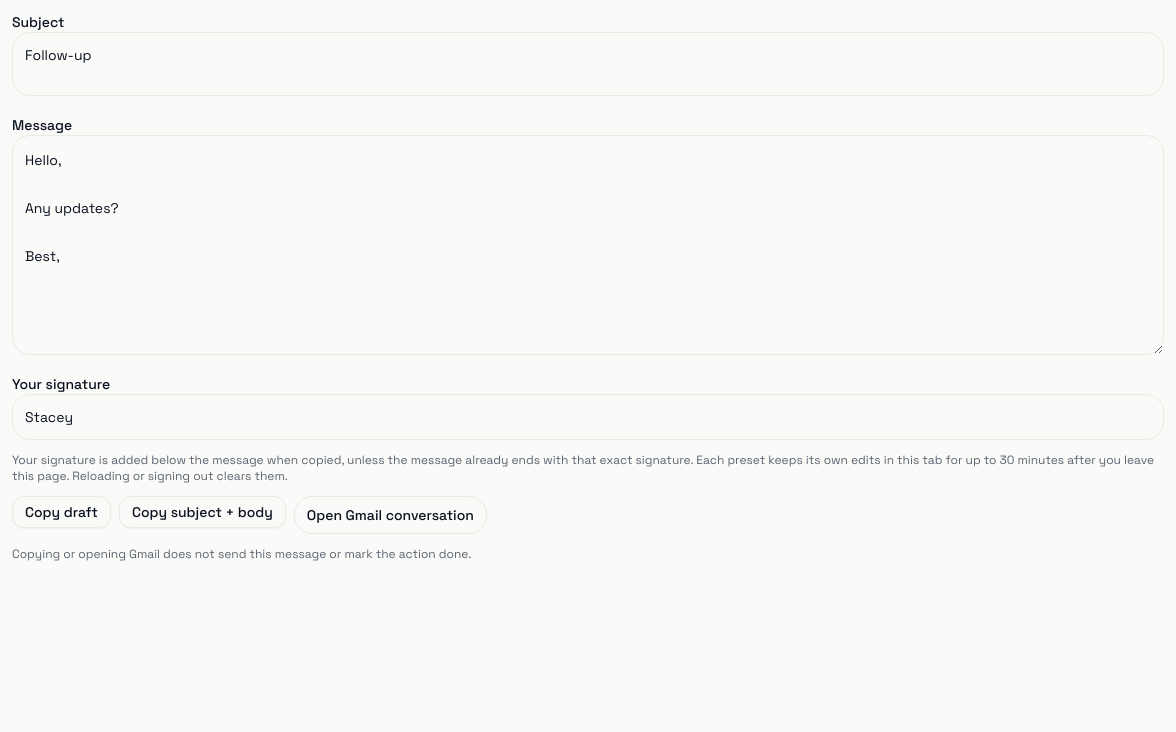
a late clipboard result cannot claim a newer edit was copied
Click the button "Copy draft" at (61, 512), box [12,496,111,528]
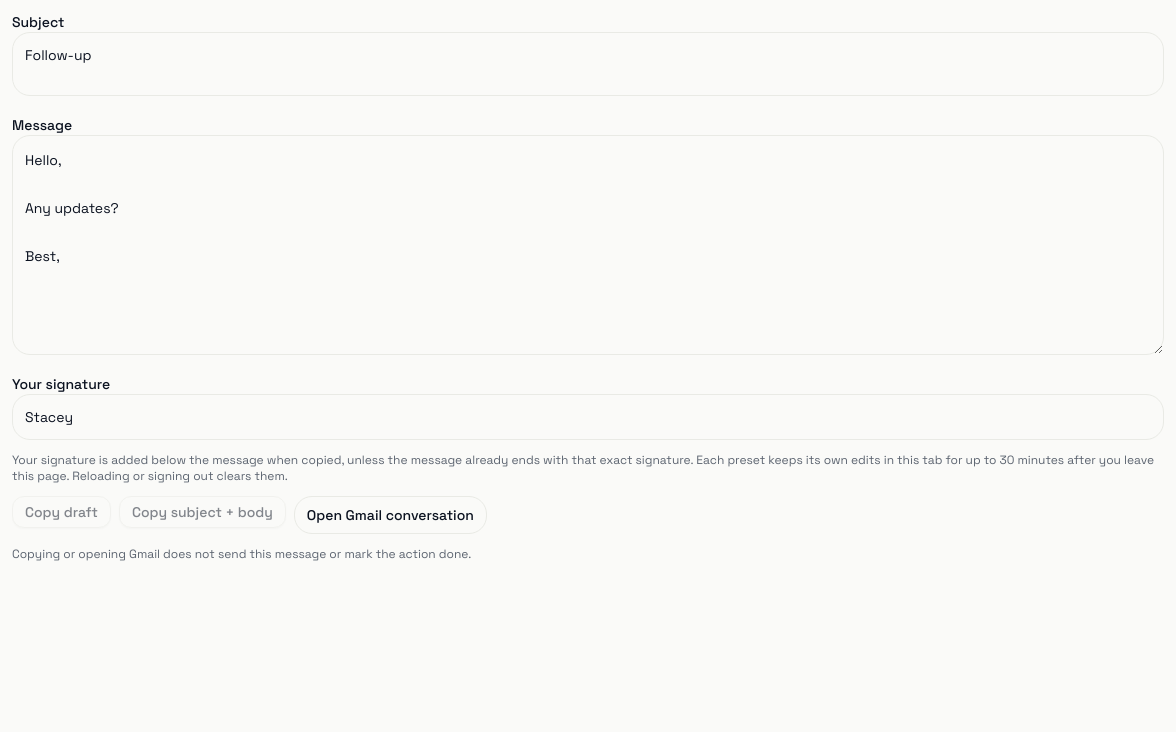
Replace the text in the text box labelled "Message" with "My newer message" at (588, 245), box [12,135,1164,355]
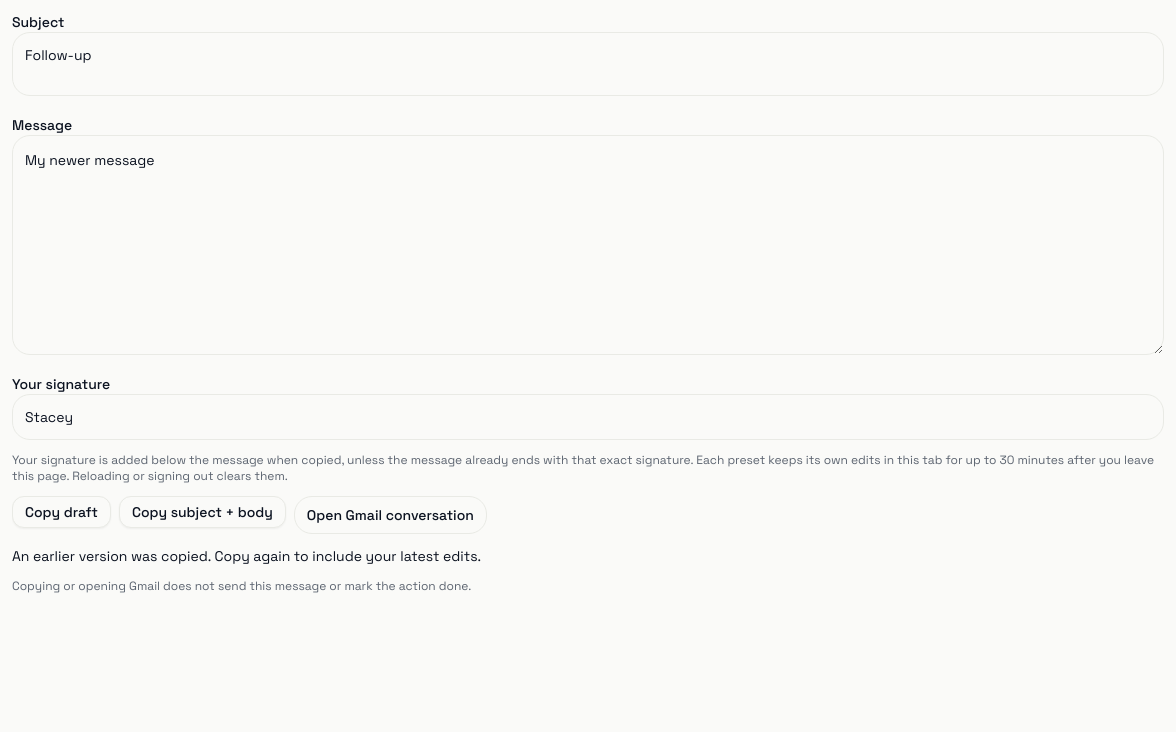
Check: the text "An earlier version was copied. Copy again to include your latest edits." is shown, box [12,547,481,565]
